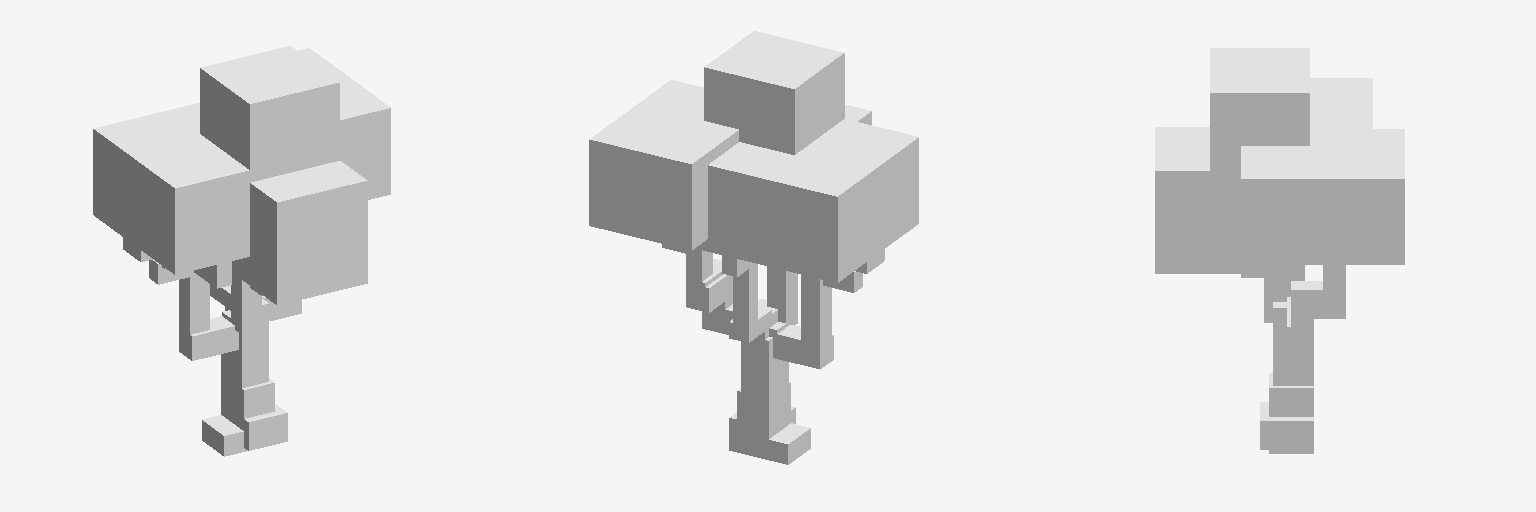
Rendered from treeV3.obj.
3 views of the same model, side by side, from view 1: azimuth 30°, elevation 25°; view 2: azimuth 150°, elevation 25°; view 3: azimuth 270°, elevation 25° (orthographic).
Size of the model in its own units: 59 by 91 by 55.